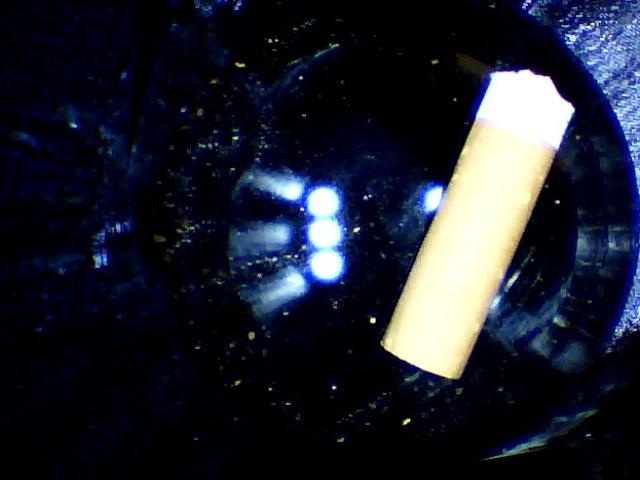megot: (377, 58, 585, 392)
